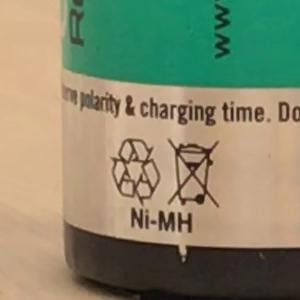NI-MH: (121, 202, 202, 239)
